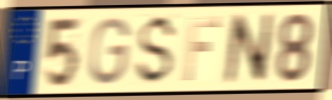5: (41, 15, 83, 90)
8: (276, 11, 315, 85)
F: (181, 16, 223, 84)
G: (87, 16, 132, 88)
N: (221, 12, 276, 86)
S: (133, 13, 180, 88)
